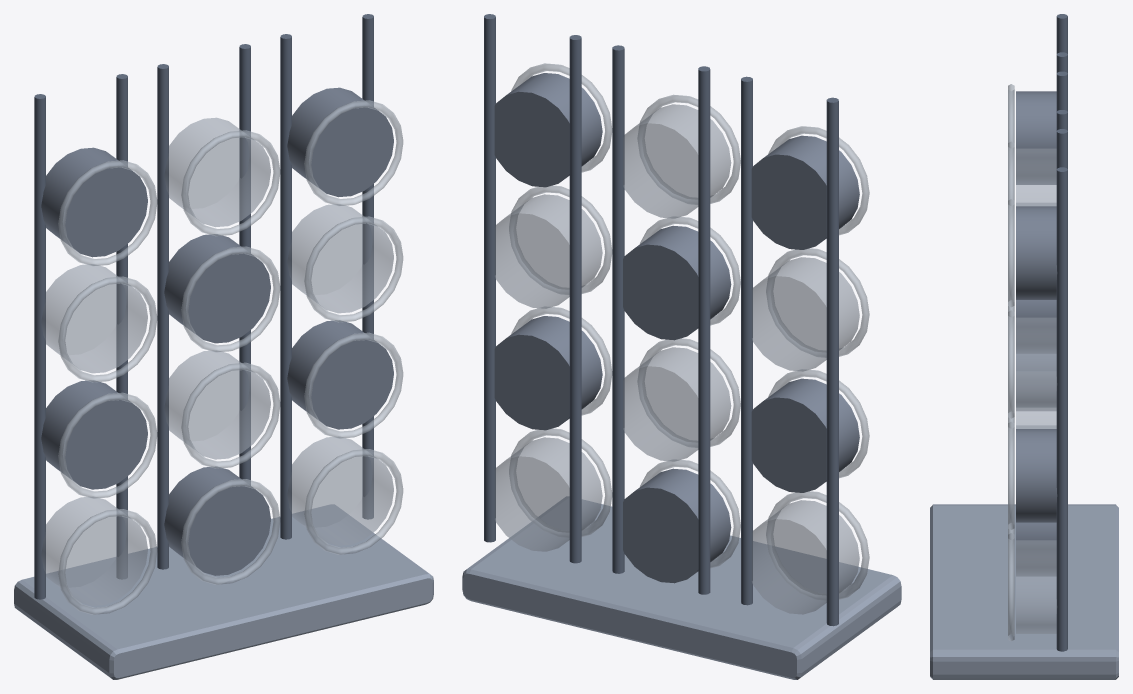
File: capsule-rack-lite.glb
The picture shows the model from 3 angles, left to right: view 1: azimuth 30°, elevation 25°; view 2: azimuth 150°, elevation 25°; view 3: azimuth 270°, elevation 25°; orthographic projection. The views are drawn at different scales.
Visible parts, largest first — view 1: accent, soft, body, dark, light; view 2: accent, soft, dark, body, light; view 3: body, accent, soft, dark, light.
Part boxes in pixels (x1,y1,x2,y2): accent: (41,87,393,575); soft: (41,117,393,605); body: (14,504,433,679); dark: (34,14,373,599); light: (58,100,403,614); accent: (494,73,859,583); soft: (494,104,859,614); dark: (484,14,838,626); body: (462,496,901,679); light: (509,63,869,599); body: (930,504,1118,679); accent: (1016,91,1057,576); soft: (1016,148,1056,633); dark: (1056,14,1067,651); light: (1008,84,1014,641).
Size of the model in its own units: 0.202 by 0.3 by 0.1.
